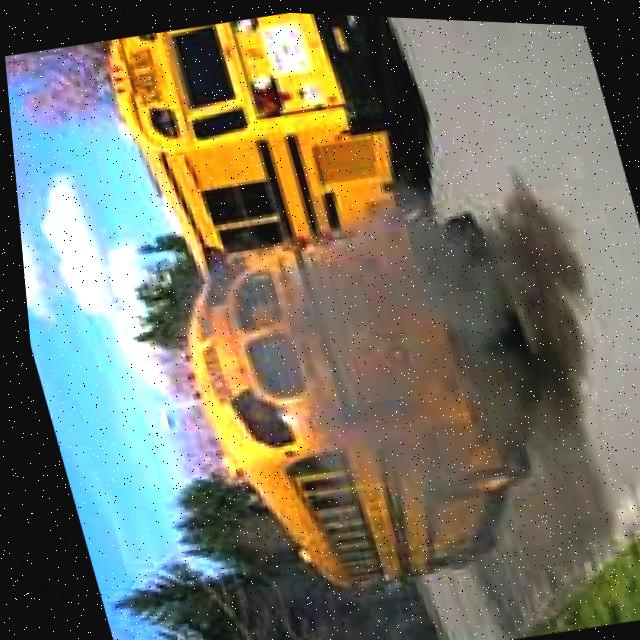Smoke: (241, 175, 591, 545)
